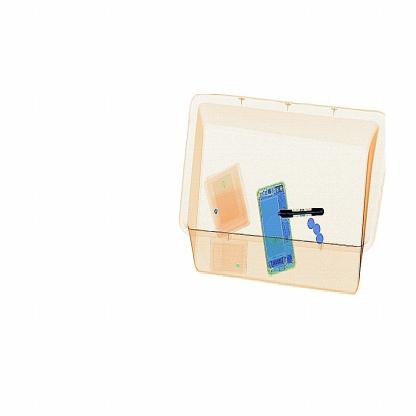knife: (277, 197, 332, 229)
